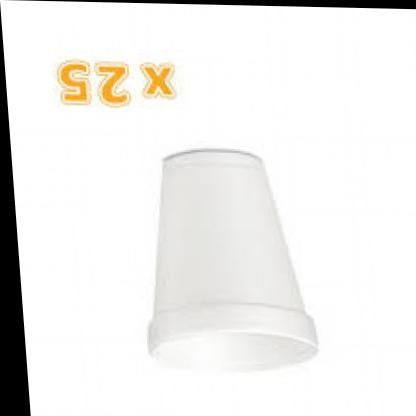trash: (148, 149, 317, 369)
